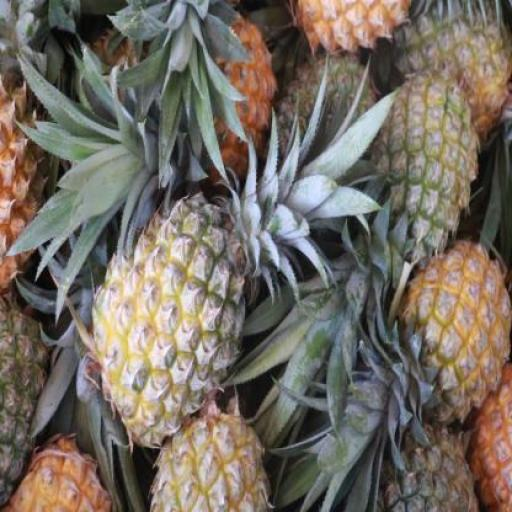------------------------------: (89, 194, 240, 441), (373, 70, 473, 264), (149, 408, 269, 511)
Pineapple - v8 v1: (405, 239, 511, 423), (0, 48, 49, 299)
